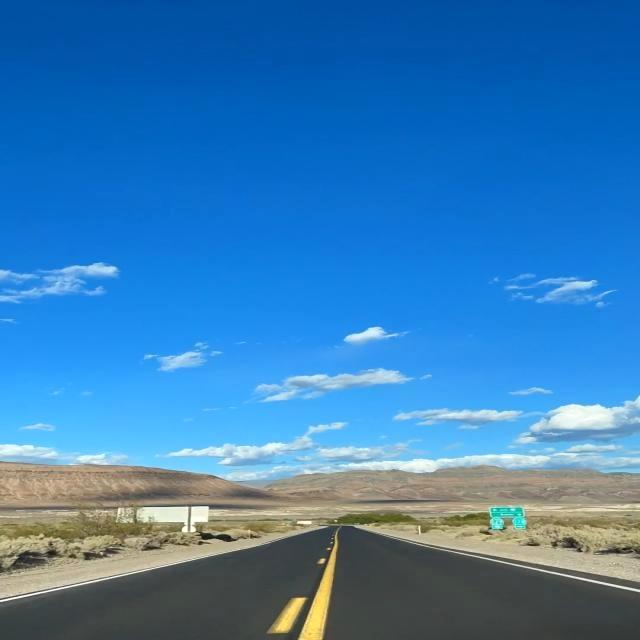lane: (298, 529, 339, 639), (268, 598, 308, 634)
road: (0, 526, 639, 639)
